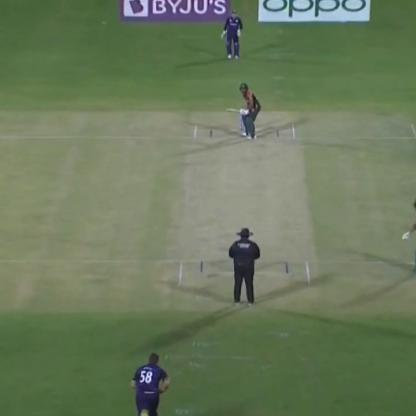bat: (216, 105, 244, 119)
pitch: (172, 122, 304, 294)
